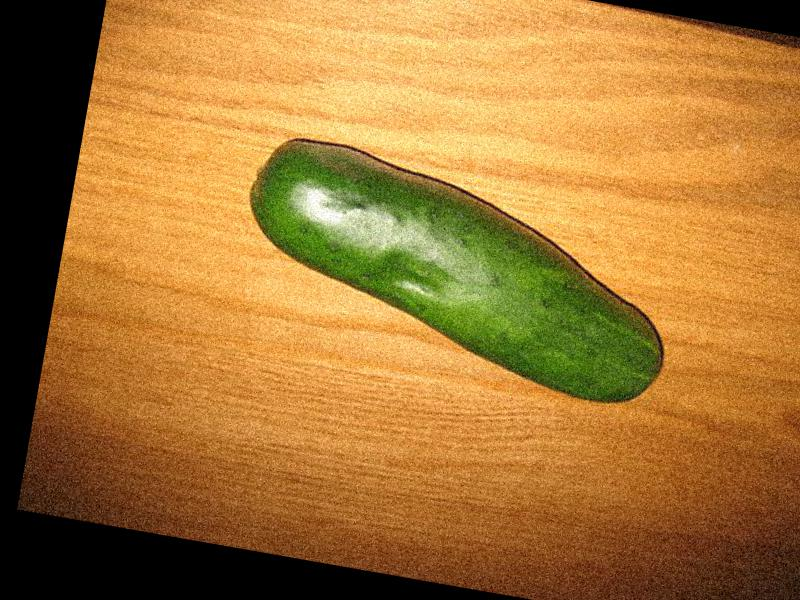Cucumber: (231, 132, 691, 409)
